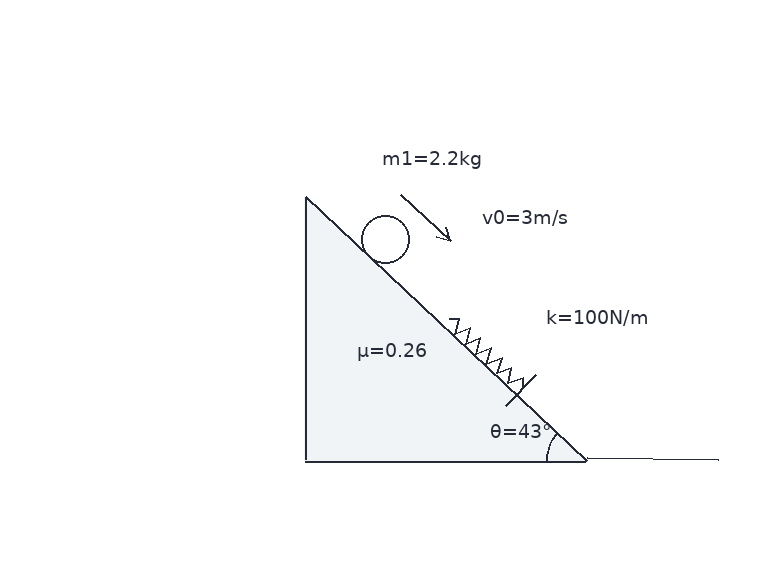ball: (359, 213, 411, 265)
ramp: (303, 195, 589, 462)
spring: (447, 317, 525, 390)
